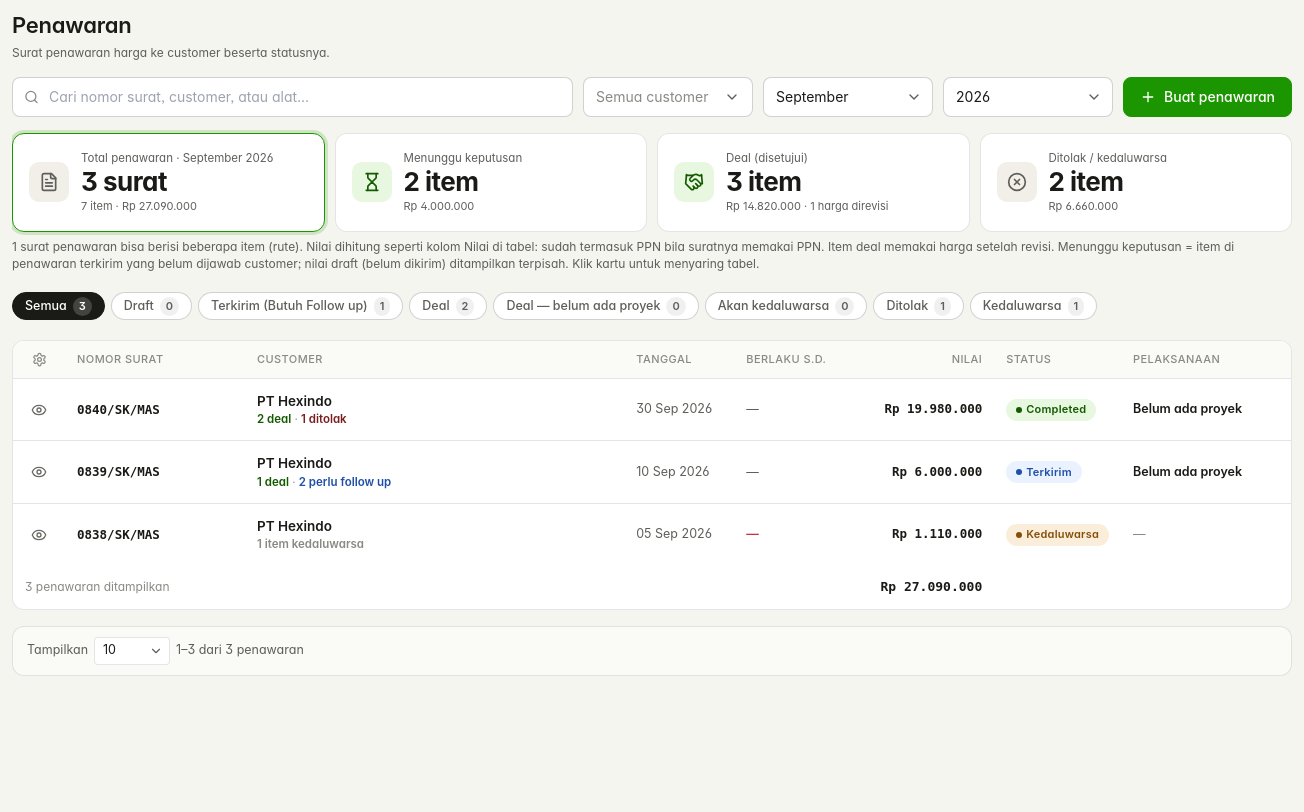
Scenario: QuotationsListView — periode & kartu monitoring › Semua bulan → setahun penuh; Semua tahun → seluruh data
Select "Semua bulan" in the dropdown named "Filter bulan" at (848, 97), box top-left (763, 77), bottom-right (933, 117)
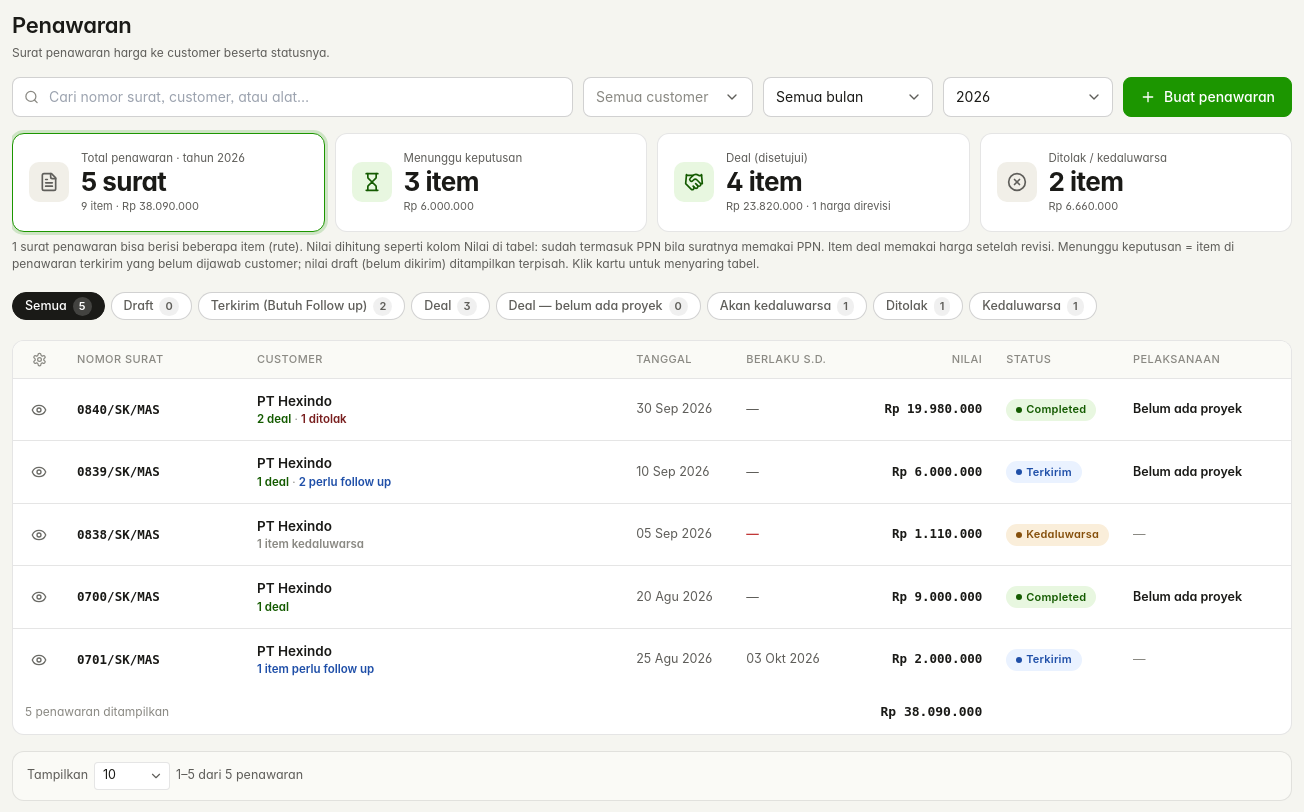
Expected: the text "5 surat" is shown, top-left (81, 166), bottom-right (166, 197)
Select "Semua tahun" in the dropdown named "Filter tahun" at (1028, 97), box top-left (943, 77), bottom-right (1113, 117)
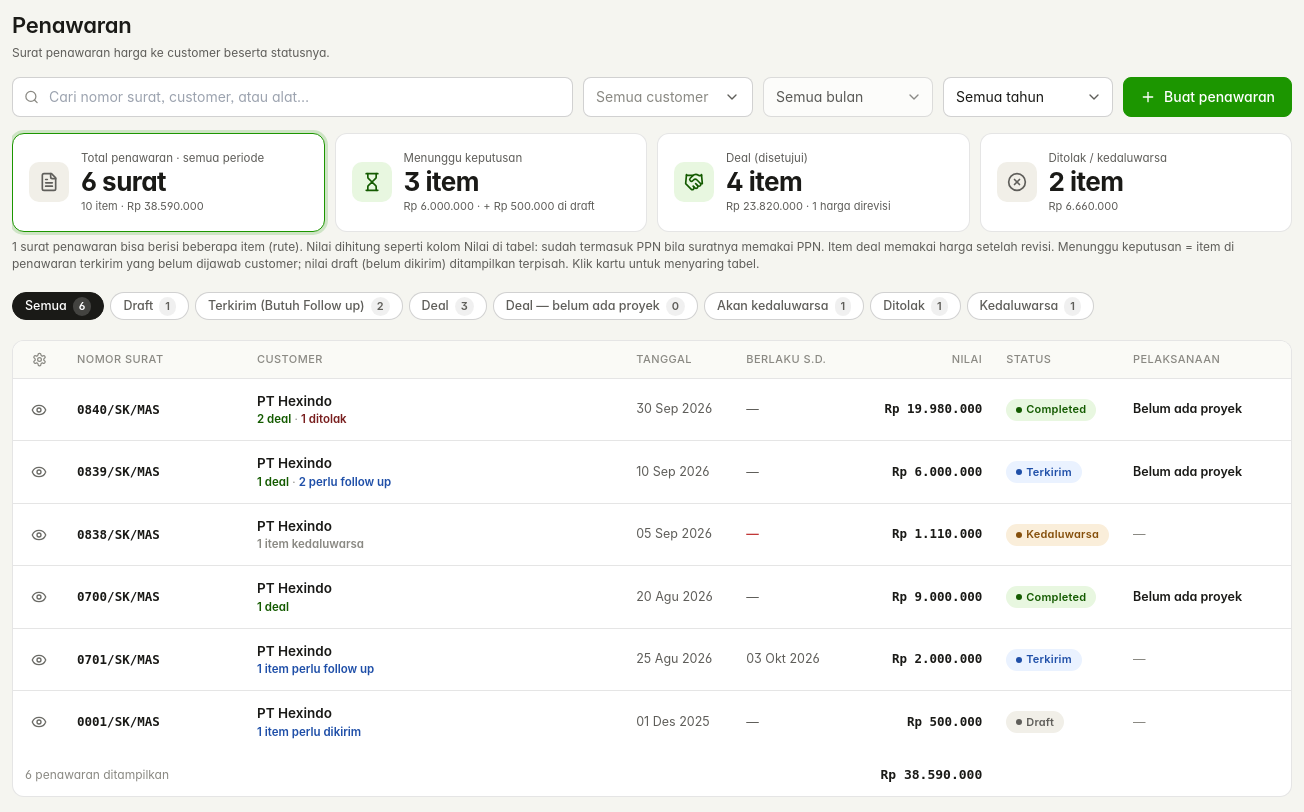
Expected: the text "6 surat" is shown, top-left (81, 166), bottom-right (166, 197)
Expected: the dropdown named "Filter bulan" is disabled, top-left (763, 77), bottom-right (933, 117)
